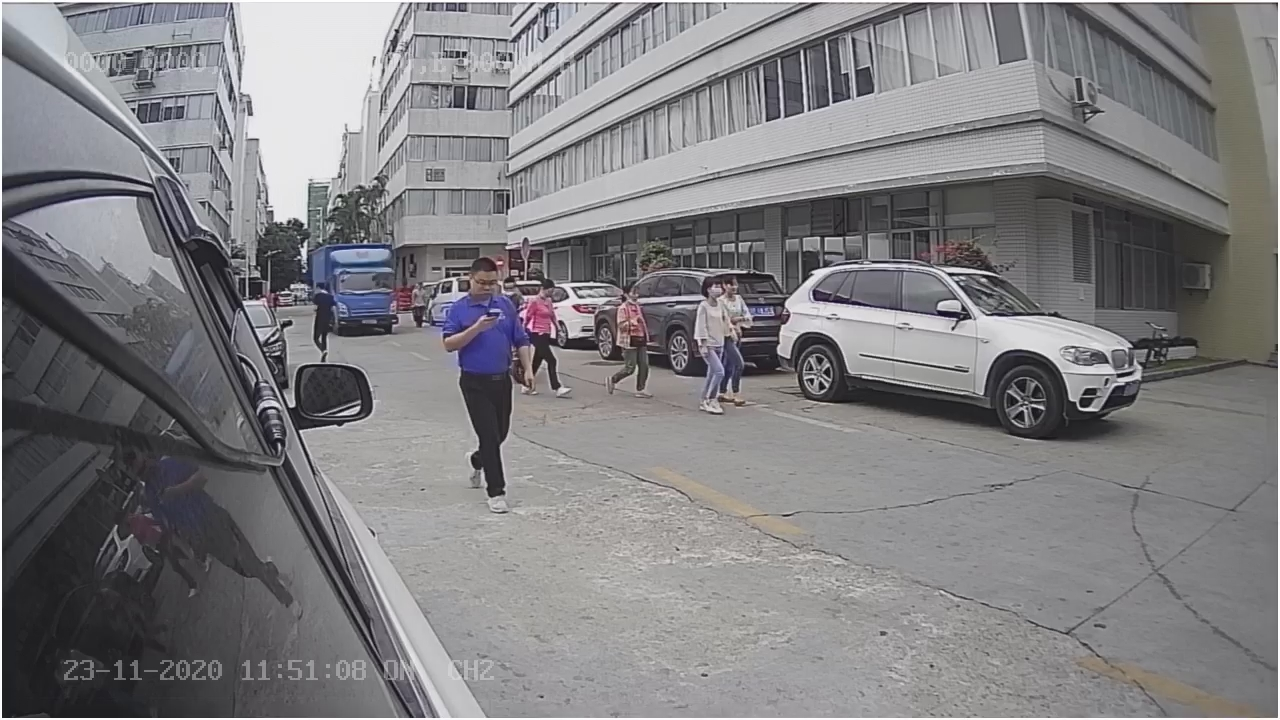person: (442, 254, 536, 519), (600, 275, 658, 401)
